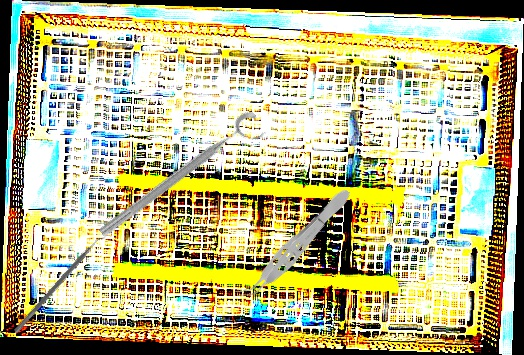Fixation Ring: (94, 107, 270, 251)
Spatula Surgical: (13, 231, 108, 338)
Tissue Forceps: (233, 182, 357, 309)
